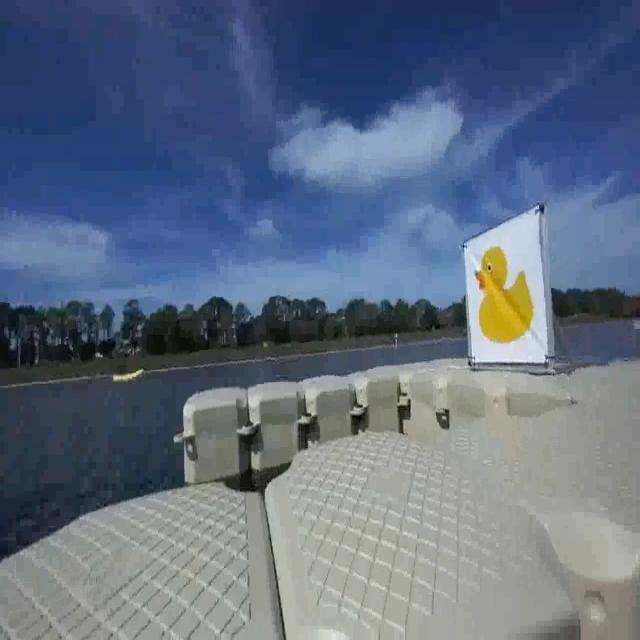yellow-duck: (468, 231, 551, 366)
